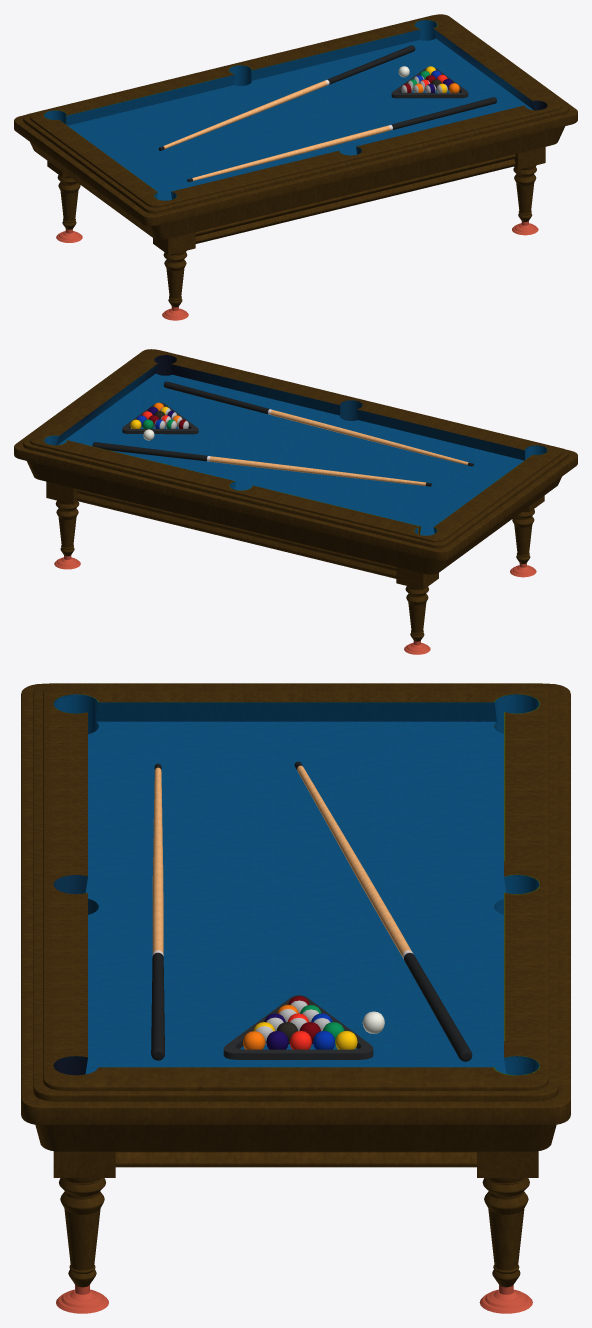
File: obj_billiard_concept_15582d.glb
3 views of the same model, one above another, from view 1: azimuth 30°, elevation 25°; view 2: azimuth 150°, elevation 25°; view 3: azimuth 270°, elevation 25° (orthographic). The views are drawn at different scales.
Visible parts, largest first — view 1: obj_billiard_concept_15582d; view 2: obj_billiard_concept_15582d; view 3: obj_billiard_concept_15582d.
Boxes of the visible parts, left/top/right/bottom form: obj_billiard_concept_15582d: left=14, top=14, right=577, bottom=320; obj_billiard_concept_15582d: left=14, top=349, right=577, bottom=654; obj_billiard_concept_15582d: left=21, top=683, right=570, bottom=1313.
Size of the model in its own units: 2.5 by 0.6767 by 1.37.
4 materials, 4 textured.
